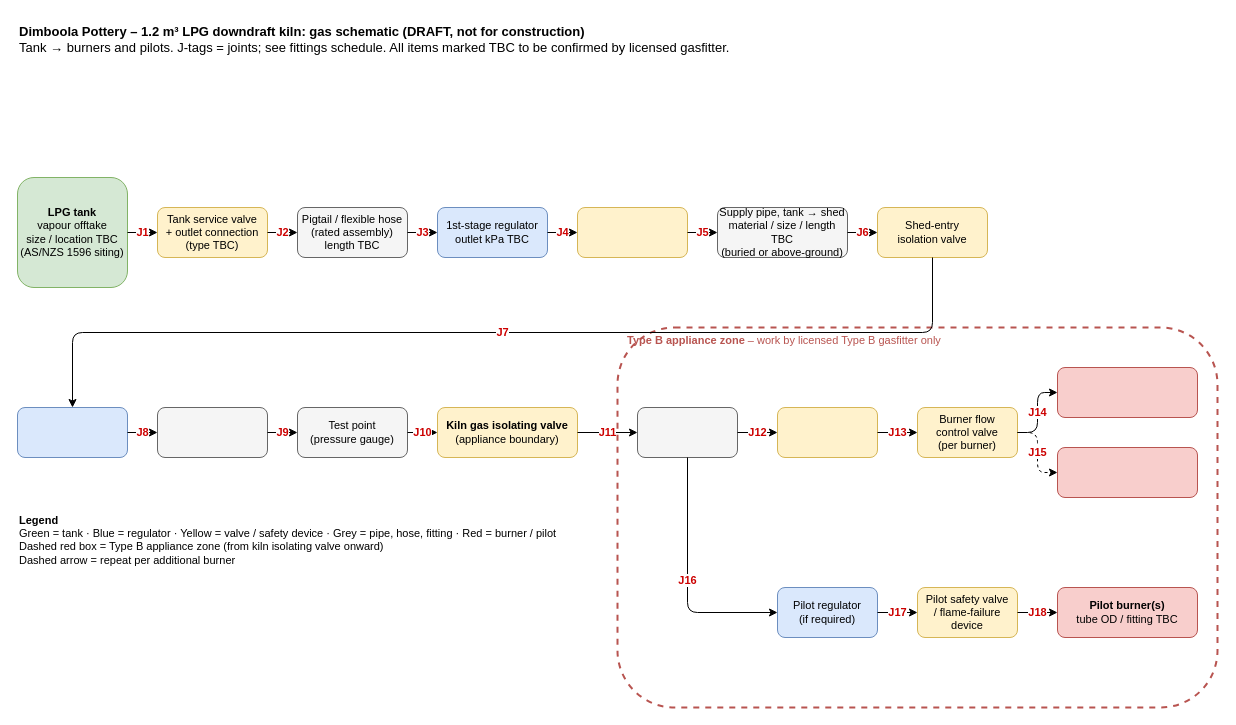
The diagram is 1236 pixels wide and 725 high, and some of its shapes have lost their labels. Here are the shapes that lost their labels. From the top down, the box of each, then its label:
(576, 206, 688, 258): Isolation valve (at tank)
(1056, 366, 1198, 418): Burner 1 inlet thread / size TBC
(16, 406, 128, 458): 2nd-stage regulator outlet kPa TBC
(156, 406, 268, 458): Filter / strainer (if specified)
(636, 406, 738, 458): Burner manifold size TBC
(776, 406, 878, 458): Main safety shut-off valve
(1056, 446, 1198, 498): Burner 2 … N repeat control valve + joints
